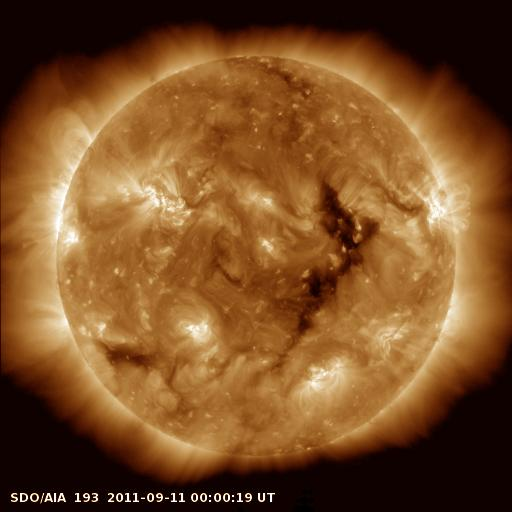coronal_hole: (282, 172, 386, 360), (94, 336, 159, 376)
